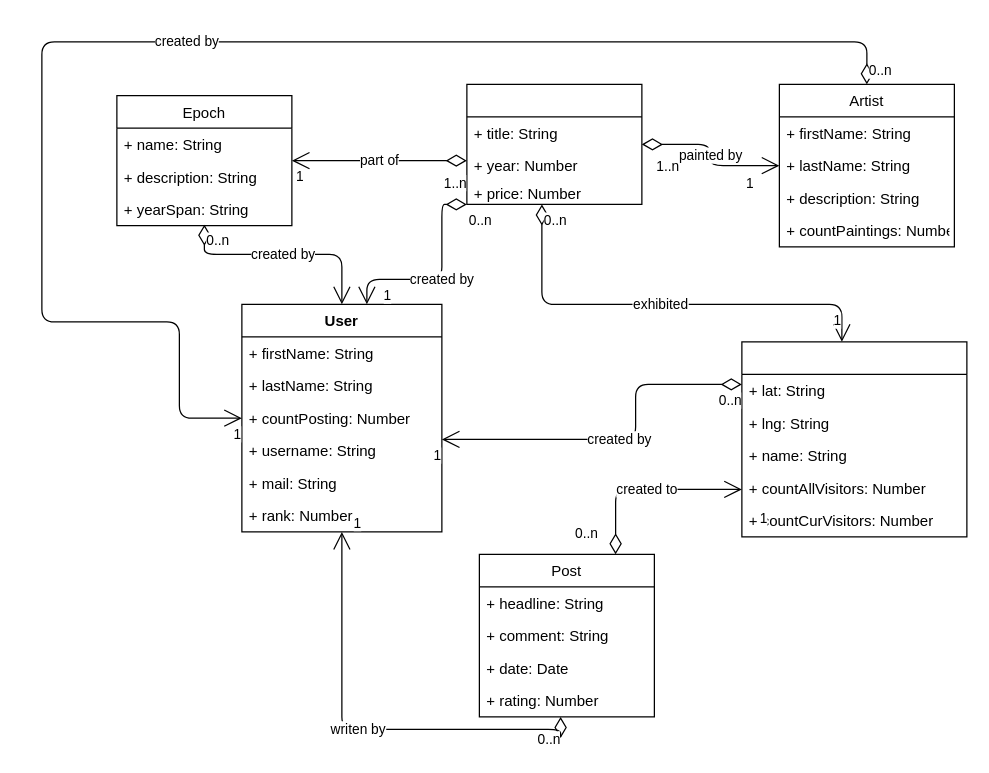
This 989x773 diagram has some shape labels left out. The box of each missing label's shape, as (x1, y1, x2, y2) in pixels:
Gallery: (741, 341, 967, 537)
Painting: (466, 83, 642, 204)
